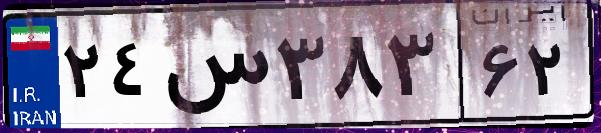2: (57, 26, 110, 100), (525, 38, 570, 115)
3: (270, 28, 330, 110), (385, 28, 445, 110)
4: (110, 28, 158, 98)
6: (475, 38, 525, 113)
8: (330, 28, 385, 110)
س: (158, 20, 270, 120)
